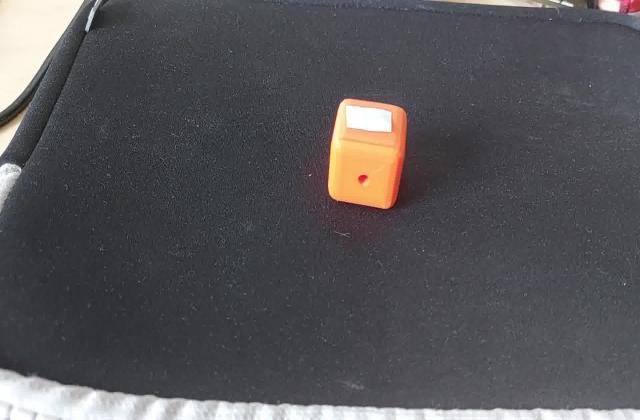cube: (327, 94, 412, 214)
white: (343, 105, 396, 138)
